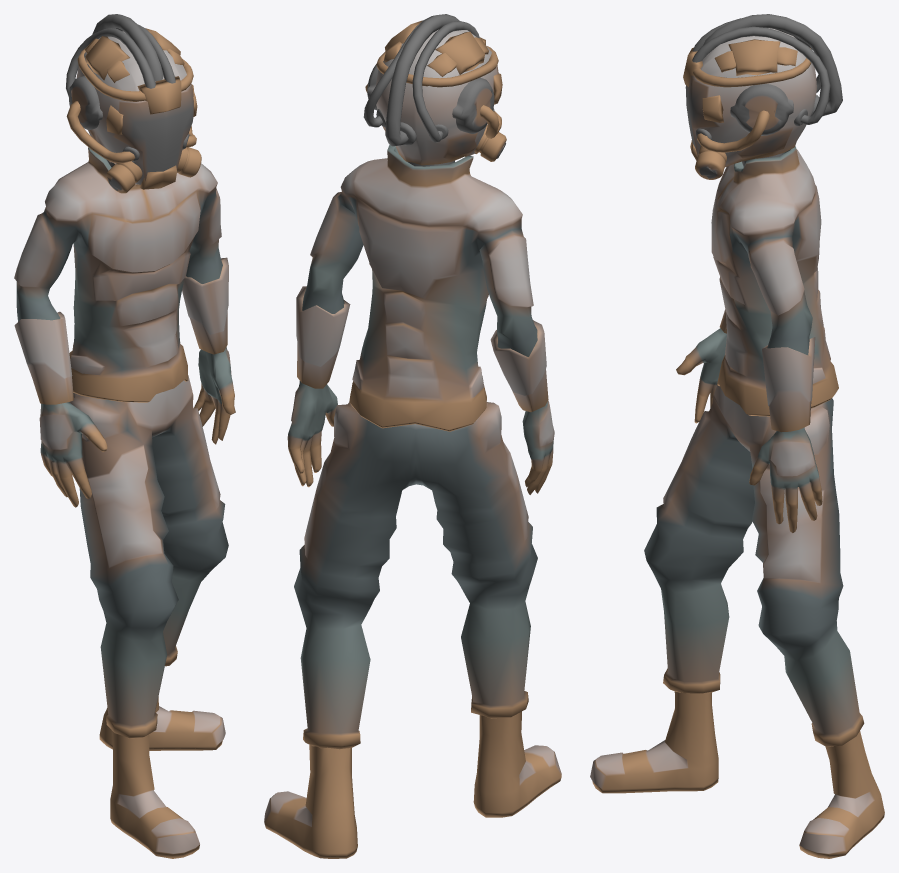
Rendered from diver.glb.
The picture shows the model from 3 angles, left to right: view 1: azimuth 30°, elevation 25°; view 2: azimuth 150°, elevation 25°; view 3: azimuth 270°, elevation 25°; orthographic projection. The views are drawn at different scales.
Size of the model in its own units: 0.3126 by 0.9784 by 0.3335.
